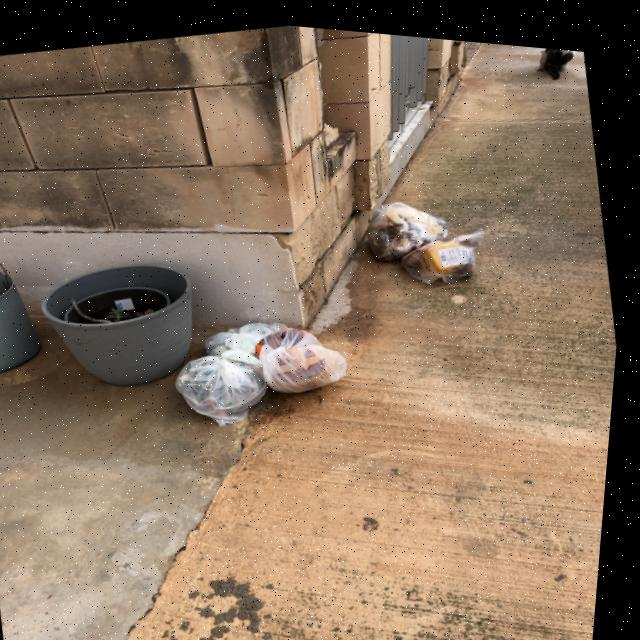Organic Waste -White Bag-: (171, 339, 284, 439), (255, 312, 362, 399), (395, 210, 506, 290), (357, 181, 458, 265), (206, 311, 286, 373)
